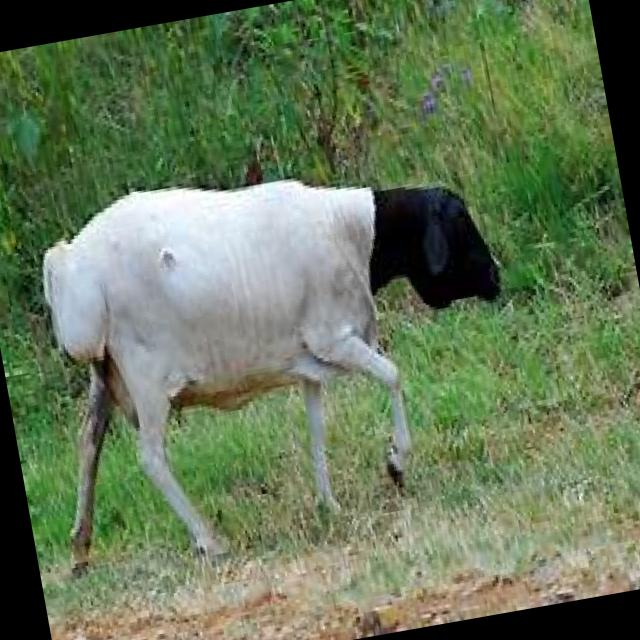animal: (12, 132, 541, 580)
